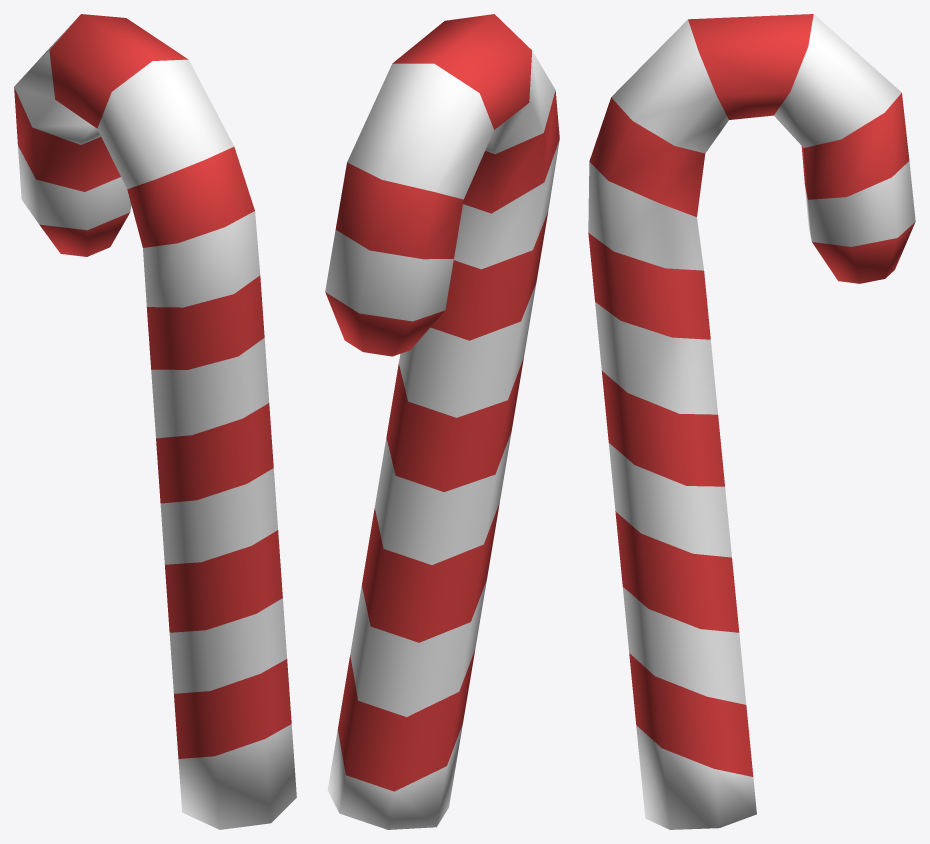
The model's file is CandyCaneGoop.gltf.
3 renders of one model, left to right at view 1: azimuth 30°, elevation 25°; view 2: azimuth 150°, elevation 25°; view 3: azimuth 270°, elevation 25°, orthographic. The views are drawn at different scales.
Parts seen in each view (by area): view 1: Cylinder; view 2: Cylinder; view 3: Cylinder.
Part boxes in pixels (x1,y1,x2,y2): Cylinder: (14, 14, 296, 829); Cylinder: (325, 14, 559, 829); Cylinder: (588, 14, 915, 829).
Bounding box in the file's own units: 0.1936 × 0.7538 × 0.2948.
1 material, 1 textured.
